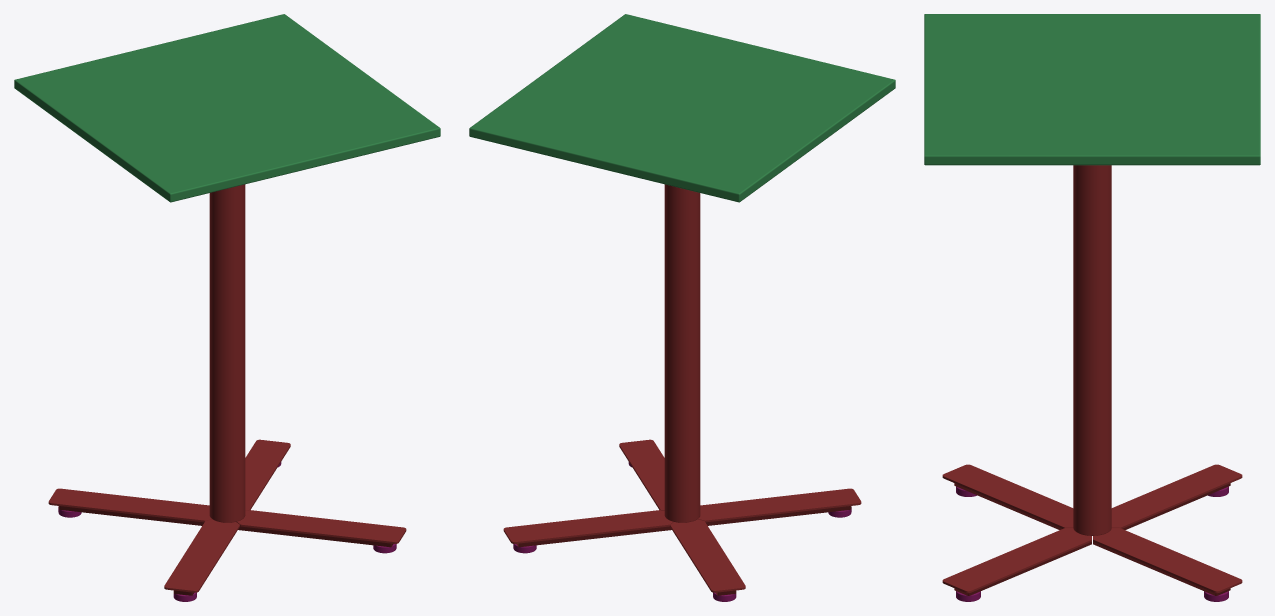
File: SM_Stehtisch.fbx
3 views of the same model, side by side, from view 1: azimuth 30°, elevation 25°; view 2: azimuth 150°, elevation 25°; view 3: azimuth 270°, elevation 25° (orthographic). The views are drawn at different scales.
Parts seen in each view (by area): view 1: SM_Stehtisch; view 2: SM_Stehtisch; view 3: SM_Stehtisch.
Boxes of the visible parts, x1,y1,x2,y2 form: SM_Stehtisch: (14, 14, 440, 601); SM_Stehtisch: (469, 14, 895, 601); SM_Stehtisch: (924, 14, 1260, 601).
Size of the model in its own units: 70.01 by 106 by 70.01.
